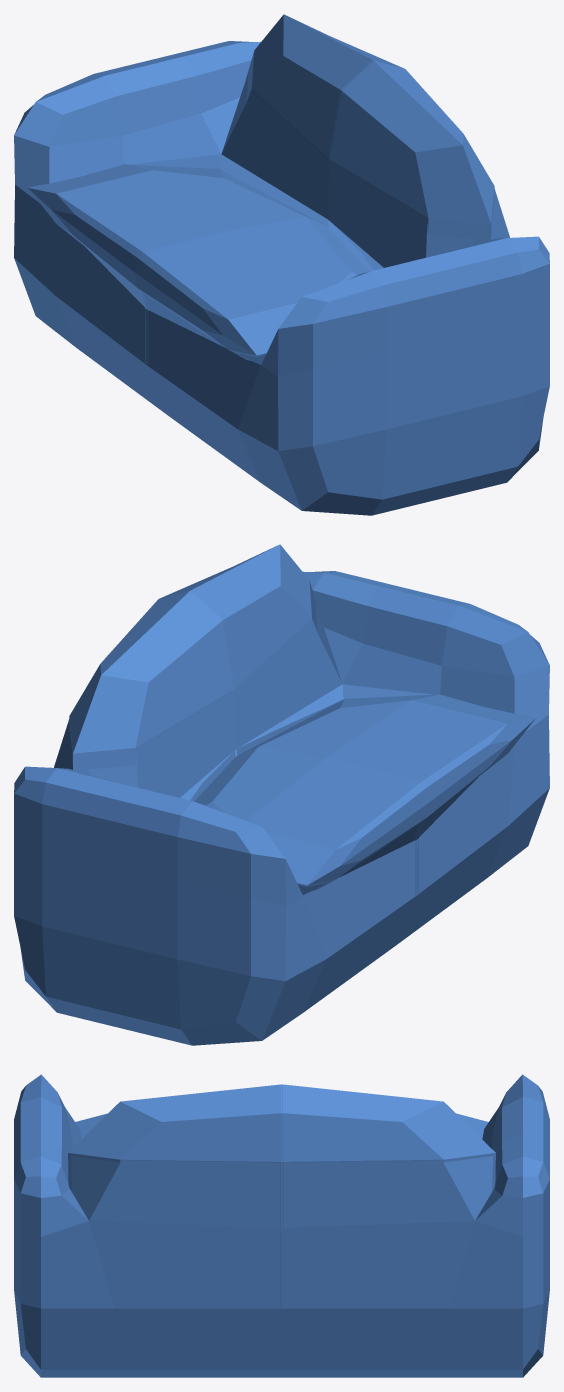
Rendered from couch.fbx.
3 views of the same model, one above another, from view 1: azimuth 30°, elevation 25°; view 2: azimuth 150°, elevation 25°; view 3: azimuth 270°, elevation 25° (orthographic). The views are drawn at different scales.
Visible parts, largest first — view 1: Cube; view 2: Cube; view 3: Cube.
Boxes of the visible parts, bbox=[...] form: Cube: bbox=[14, 14, 549, 515]; Cube: bbox=[14, 544, 549, 1045]; Cube: bbox=[14, 1074, 549, 1377].
Bounding box in the file's own units: 302 × 334 × 553.
